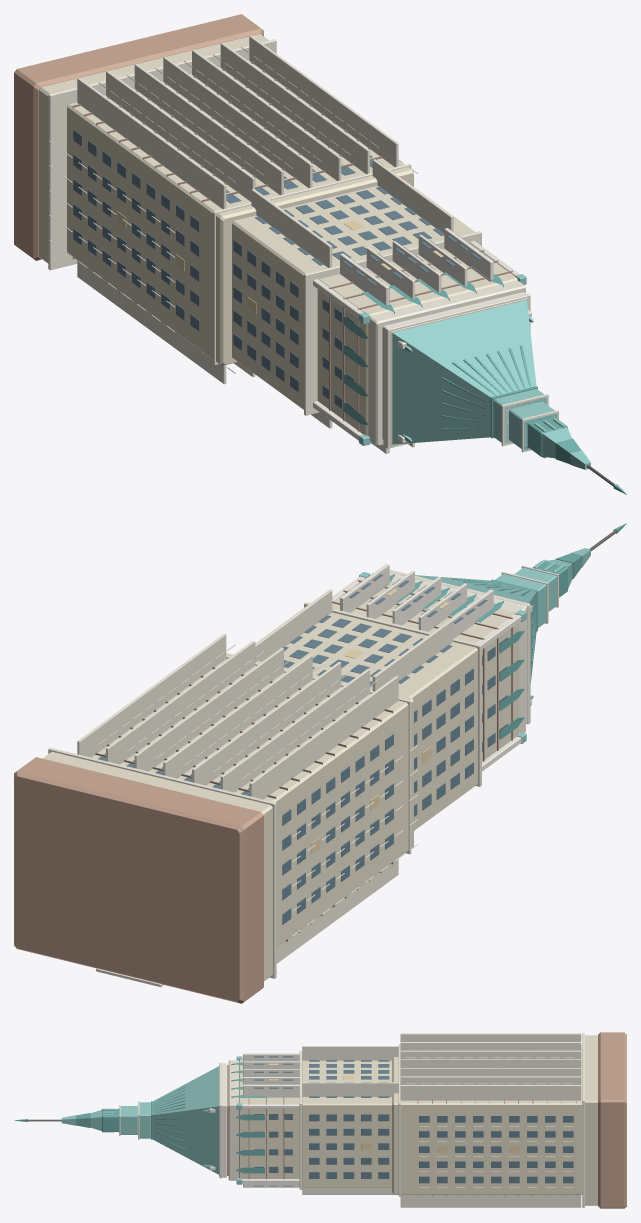
Rendered from 40-wall-street.glb.
The picture shows the model from 3 angles, top to bottom: view 1: azimuth 30°, elevation 25°; view 2: azimuth 150°, elevation 25°; view 3: azimuth 270°, elevation 25°; orthographic projection. The views are drawn at different scales.
Parts seen in each view (by area): view 1: Lower_Shaft, Main_Pyramidal_Roof, Mid_Shaft, Base_Platform, Upper_Tower, Base_Cornice, back_pier_outer_0, back_pier_outer_3, back_pier_outer_4, back_pier_outer_5, back_pier_outer_2, back_pier_outer_6 (+19 smaller); view 2: Base_Platform, Lower_Shaft, Mid_Shaft, Upper_Tower, back_pier_outer_0, back_pier_outer_2, back_pier_outer_5, back_pier_outer_3, back_pier_outer_6, back_pier_outer_1, back_pier_outer_4, Base_Masonry (+15 smaller); view 3: Lower_Shaft, Mid_Shaft, Base_Platform, Main_Pyramidal_Roof, Upper_Tower, back_pier_outer_6, front_pier_outer_6, Base_Masonry, back_pier_outer_2, back_pier_outer_1, back_pier_outer_3, back_pier_outer_4 (+22 smaller).
Boxes of the visible parts, x1=… form: Lower_Shaft: x1=67, y1=60, x2=413, y2=365; Main_Pyramidal_Roof: x1=392, y1=300, x2=536, y2=444; Mid_Shaft: x1=232, y1=179, x2=474, y2=409; Base_Platform: x1=14, y1=14, x2=263, y2=260; Upper_Tower: x1=317, y1=242, x2=517, y2=435; Base_Cornice: x1=48, y1=39, x2=276, y2=270; back_pier_outer_0: x1=77, y1=78, x2=226, y2=208; back_pier_outer_3: x1=163, y1=57, x2=312, y2=187; back_pier_outer_4: x1=192, y1=49, x2=341, y2=181; back_pier_outer_5: x1=220, y1=43, x2=369, y2=174; back_pier_outer_2: x1=134, y1=64, x2=283, y2=195; back_pier_outer_6: x1=249, y1=36, x2=398, y2=166; Base_Platform: x1=14, y1=757, x2=263, y2=1003; Lower_Shaft: x1=92, y1=653, x2=413, y2=946; Mid_Shaft: x1=255, y1=606, x2=477, y2=830; Upper_Tower: x1=332, y1=577, x2=518, y2=761; back_pier_outer_0: x1=249, y1=676, x2=398, y2=799; back_pier_outer_2: x1=192, y1=662, x2=341, y2=785; back_pier_outer_5: x1=106, y1=641, x2=255, y2=764; back_pier_outer_3: x1=163, y1=654, x2=312, y2=778; back_pier_outer_6: x1=77, y1=633, x2=226, y2=757; back_pier_outer_1: x1=220, y1=668, x2=369, y2=792; back_pier_outer_4: x1=134, y1=647, x2=283, y2=771; Base_Masonry: x1=43, y1=751, x2=272, y2=980; Lower_Shaft: x1=392, y1=1046, x2=582, y2=1194; Mid_Shaft: x1=302, y1=1060, x2=391, y2=1187; Base_Platform: x1=598, y1=1032, x2=626, y2=1208; Main_Pyramidal_Roof: x1=152, y1=1066, x2=218, y2=1174; Upper_Tower: x1=239, y1=1059, x2=299, y2=1178; back_pier_outer_6: x1=400, y1=1085, x2=581, y2=1100; front_pier_outer_6: x1=400, y1=1195, x2=581, y2=1207; Base_Masonry: x1=585, y1=1035, x2=597, y2=1205; back_pier_outer_2: x1=400, y1=1050, x2=581, y2=1059; back_pier_outer_1: x1=400, y1=1042, x2=581, y2=1050; back_pier_outer_3: x1=400, y1=1059, x2=581, y2=1067; back_pier_outer_4: x1=400, y1=1068, x2=581, y2=1076.
Size of the model in its own units: 40.19 by 31.31 by 143.
